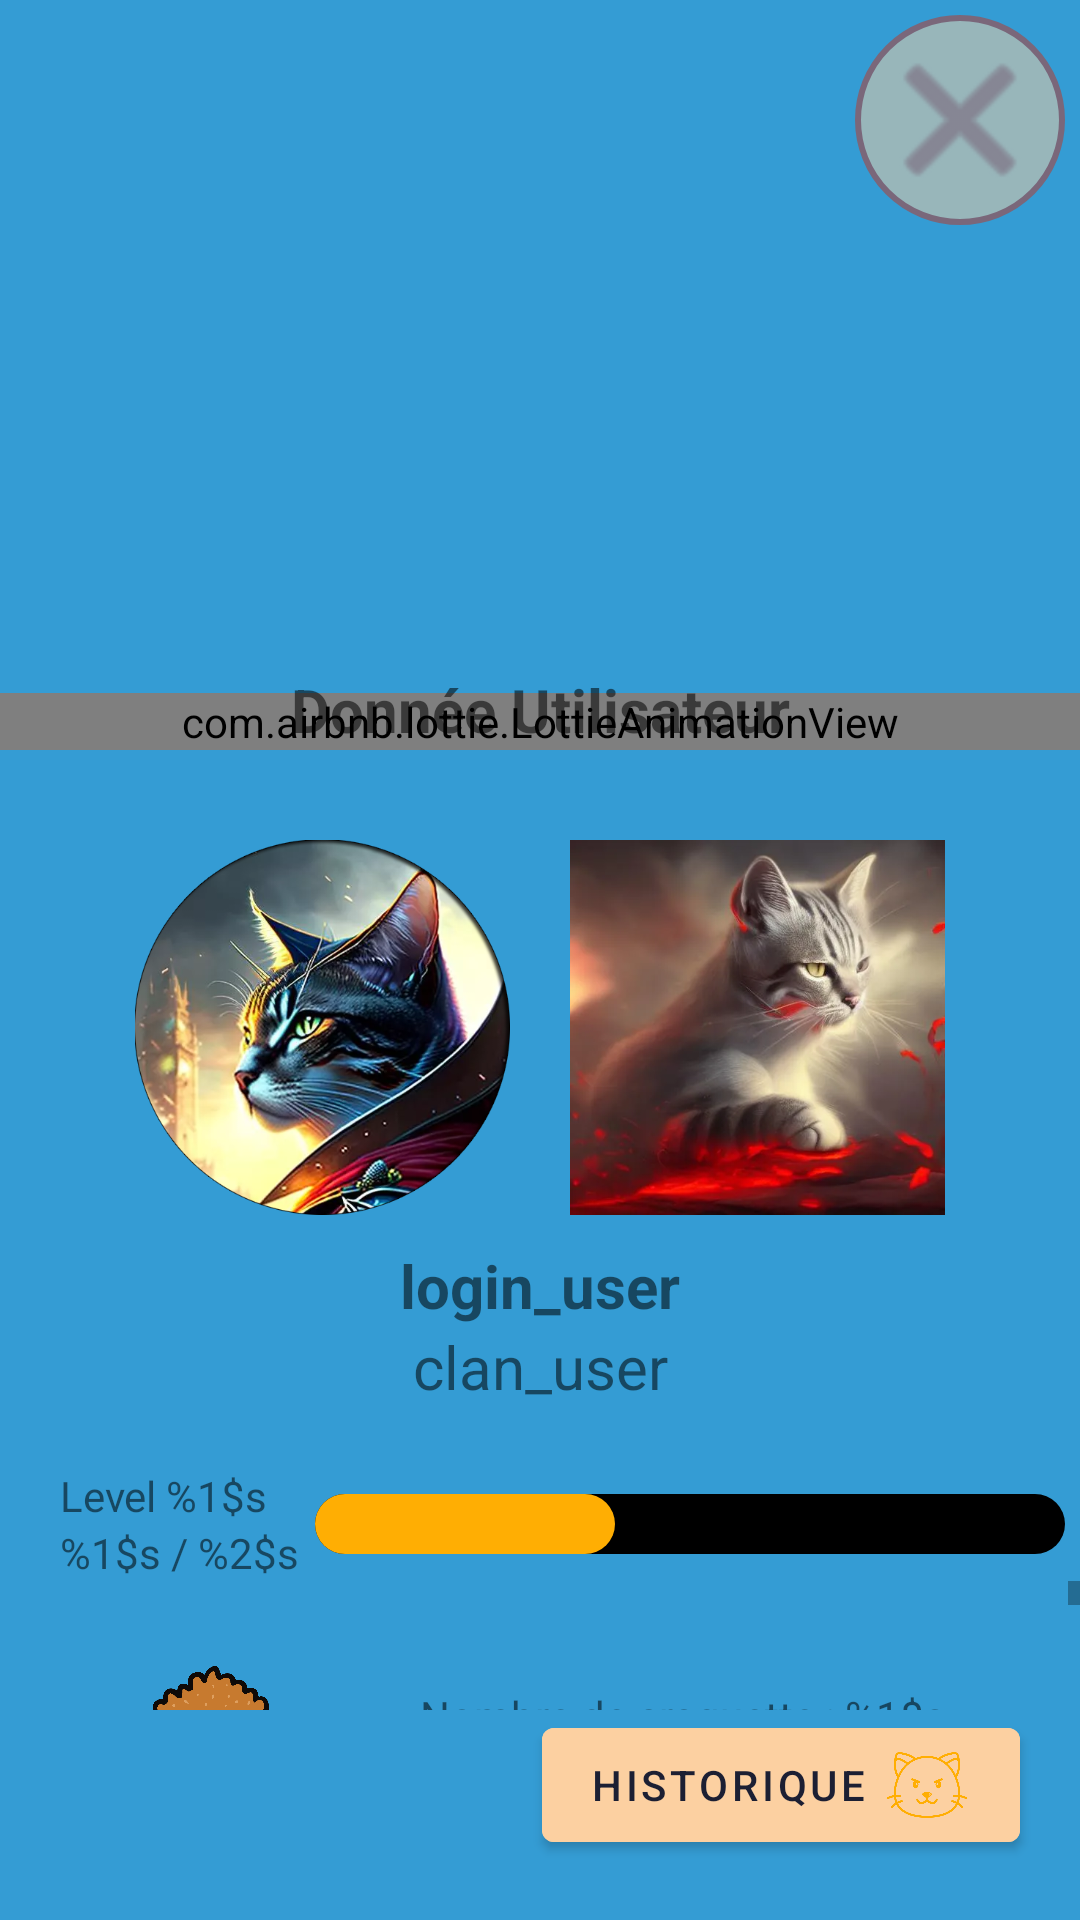

Point at icon controls on the screen. Image size 1080*1920, points as (x,y).
close clear cancel: (960,120)
